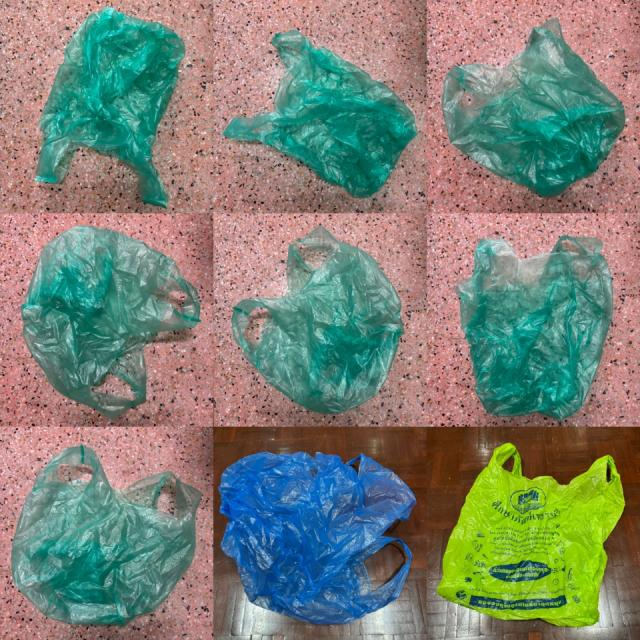Single-layer Plastic: (21, 226, 200, 419), (438, 444, 624, 627), (11, 445, 201, 624), (219, 452, 416, 623), (441, 18, 625, 196), (224, 30, 418, 197), (231, 226, 404, 412), (35, 8, 185, 207), (456, 235, 611, 419)
